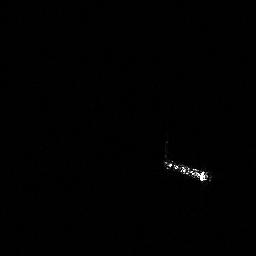ship: (166, 160, 208, 182)
